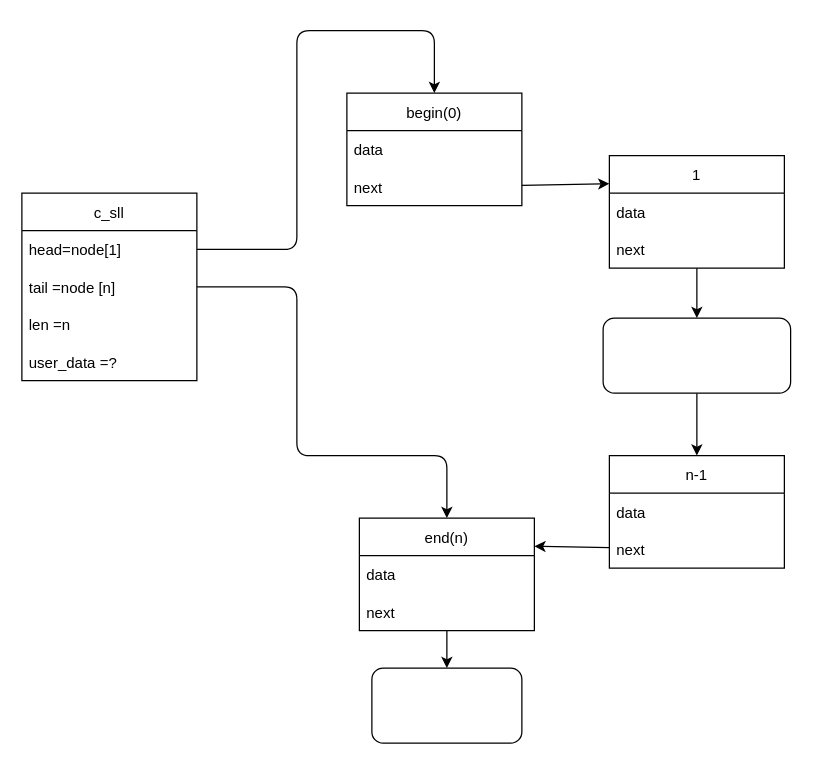
The diagram is 813 pixels wide and 765 high, and some of its shapes have lost their labels. Each missing label, with the centre of its shape:
... ... more node(2~n-2): point (696, 355)
NULL: point (446, 705)
